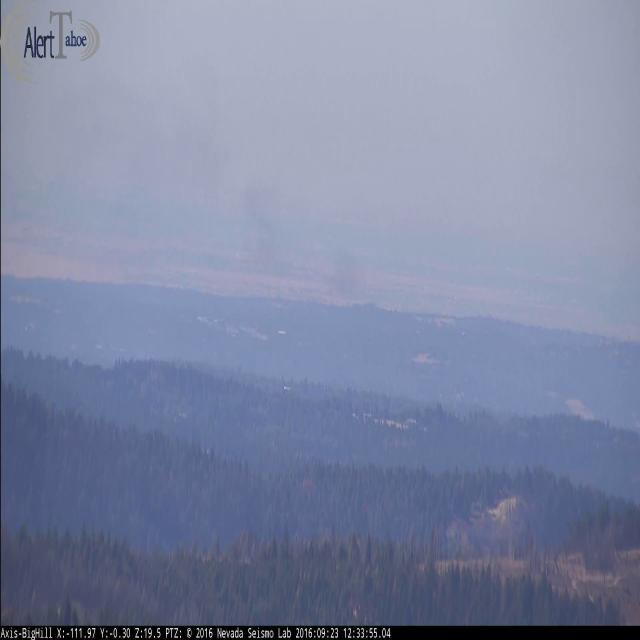smoke: (50, 82, 371, 304)
